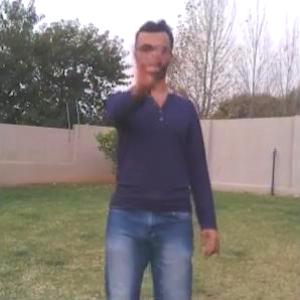takeoff-hand: (127, 47, 164, 89)
